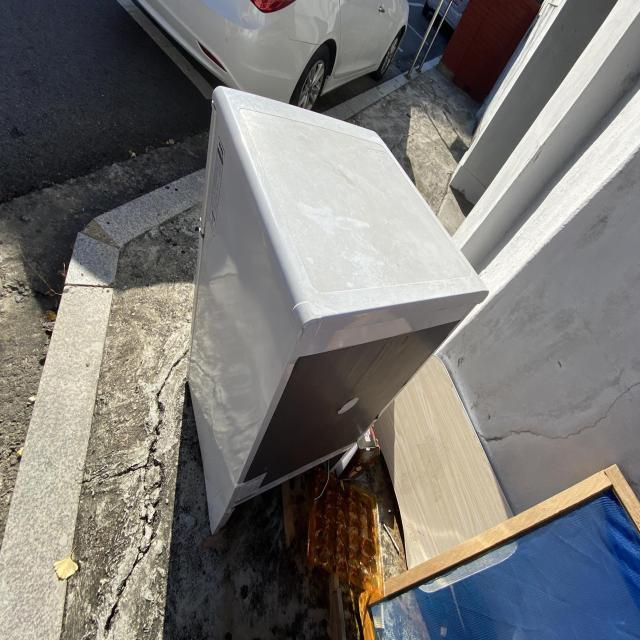refrigerator: (186, 84, 490, 538)
